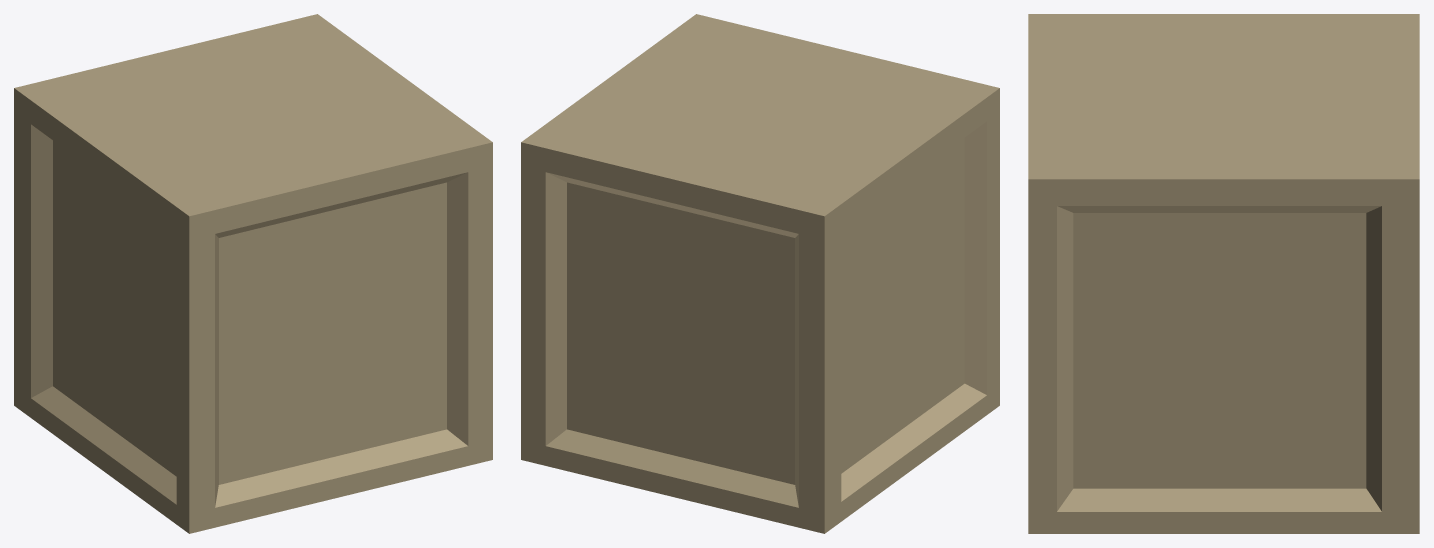
The model's file is caja.fbx.
The picture shows the model from 3 angles, left to right: view 1: azimuth 30°, elevation 25°; view 2: azimuth 150°, elevation 25°; view 3: azimuth 270°, elevation 25°; orthographic projection. The views are drawn at different scales.
Visible parts, largest first — view 1: pCube1; view 2: pCube1; view 3: pCube1.
Part boxes in pixels (box(x1,y1,x2,y2)): pCube1: box(14, 14, 492, 533); pCube1: box(521, 14, 999, 533); pCube1: box(1028, 14, 1419, 533).
Size of the model in its own units: 1.38 by 1.38 by 1.38.
